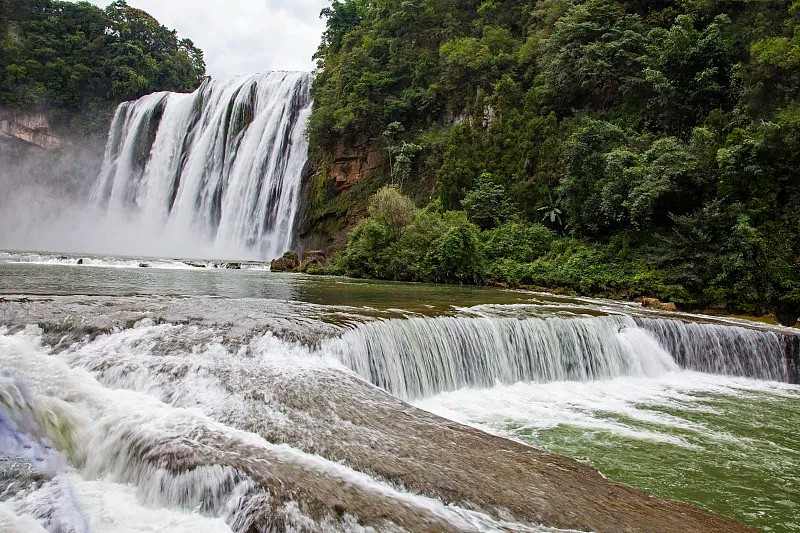Huangguoshu: (82, 69, 312, 260)
